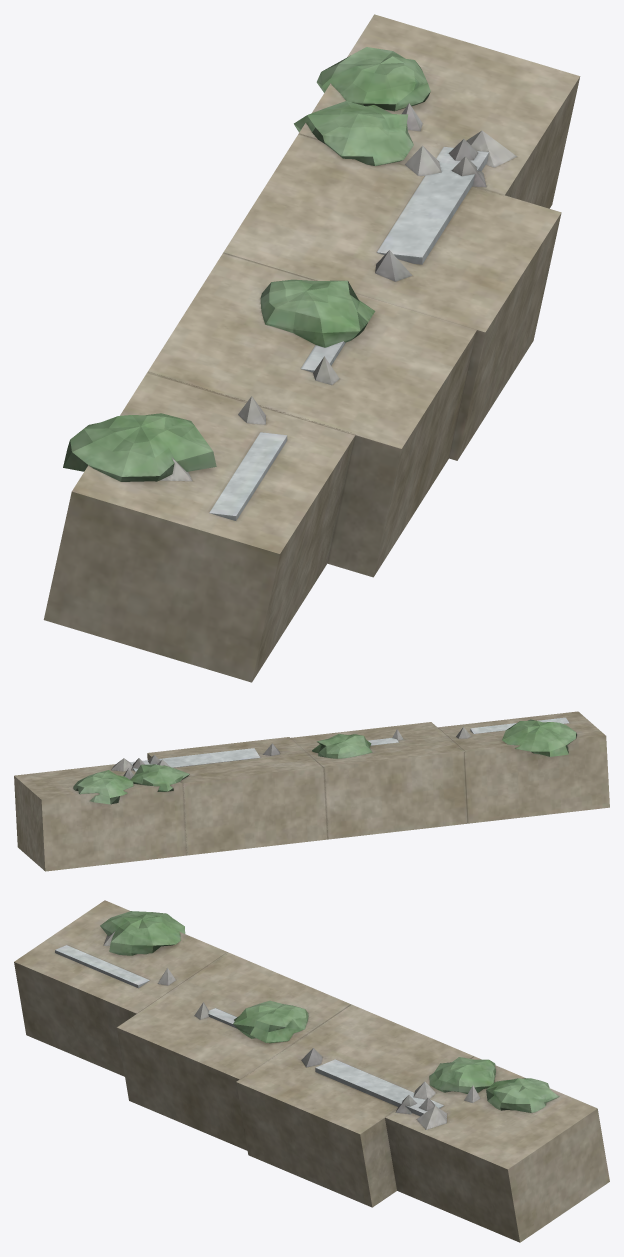
The model's file is river_bank_b.glb.
The picture shows the model from 3 angles, top to bottom: view 1: azimuth 30°, elevation 25°; view 2: azimuth 150°, elevation 25°; view 3: azimuth 270°, elevation 25°; orthographic projection. The views are drawn at different scales.
Visible parts, largest first — view 1: dilek; view 2: dilek; view 3: dilek.
Part boxes in pixels (x1,y1,x2,y2): dilek: (43,14,580,682); dilek: (14,711,609,871); dilek: (14,900,609,1242).
Bounding box in the file's own units: 1.48 × 0.3266 × 1.48.
Materials: 1 (1 with a texture image).
